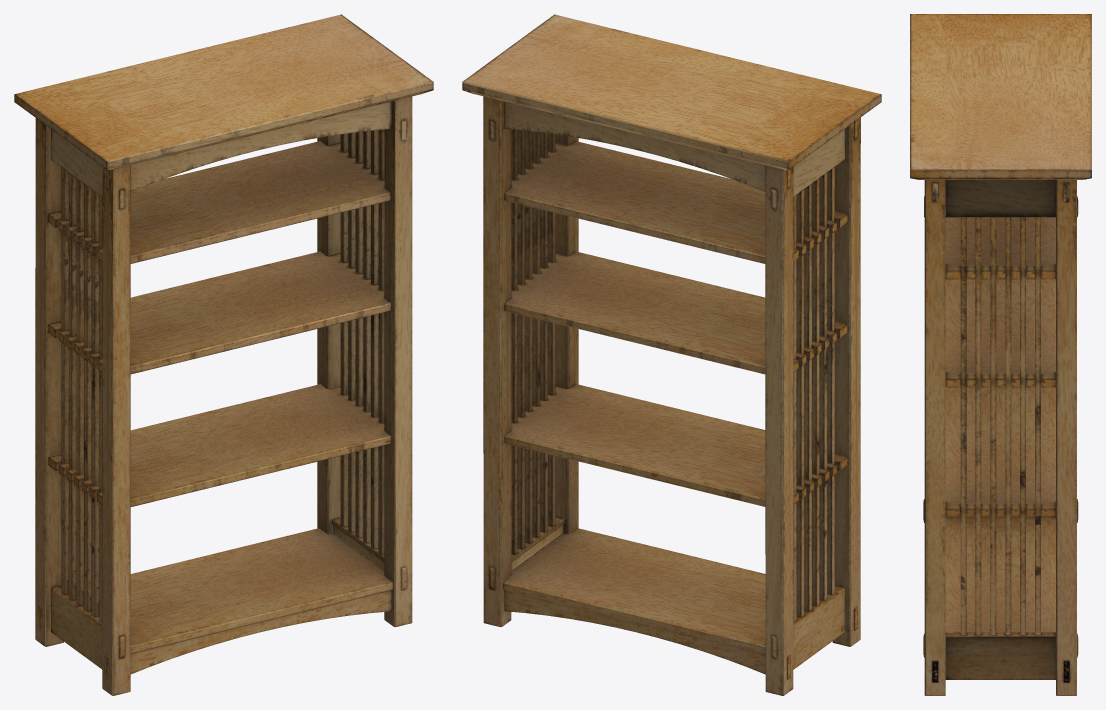
File: Shelf End A1.obj
3 views of the same model, side by side, from view 1: azimuth 30°, elevation 25°; view 2: azimuth 150°, elevation 25°; view 3: azimuth 270°, elevation 25° (orthographic). The views are drawn at different scales.
Parts seen in each view (by area): view 1: shelf___Base; view 2: shelf___Base; view 3: shelf___Base.
Part boxes in pixels (bbox=[...]): shelf___Base: bbox=[14, 14, 433, 695]; shelf___Base: bbox=[462, 14, 881, 695]; shelf___Base: bbox=[910, 14, 1091, 695].
Bounding box in the file's own units: 31 × 49.25 × 15.25.
